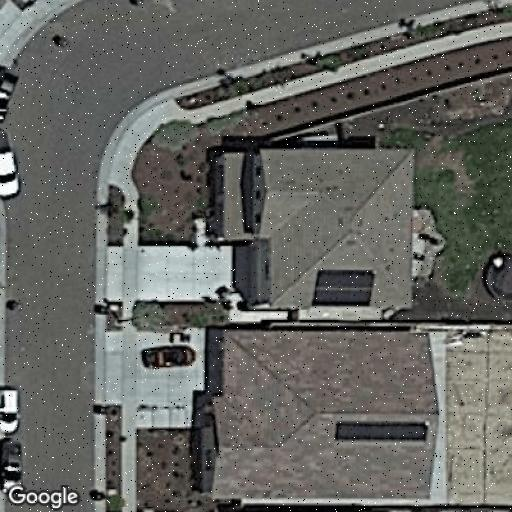solar-panel: (310, 266, 376, 306), (333, 420, 430, 444)
